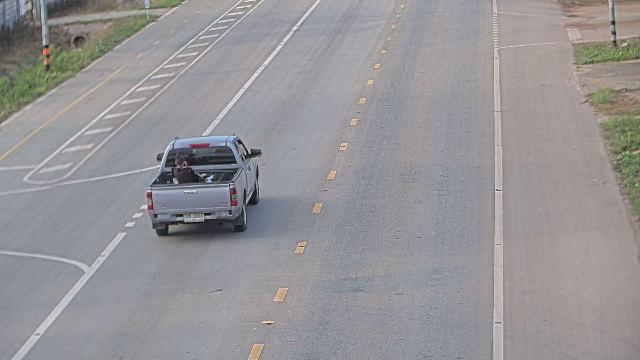pickup-truck: (145, 134, 262, 236)
